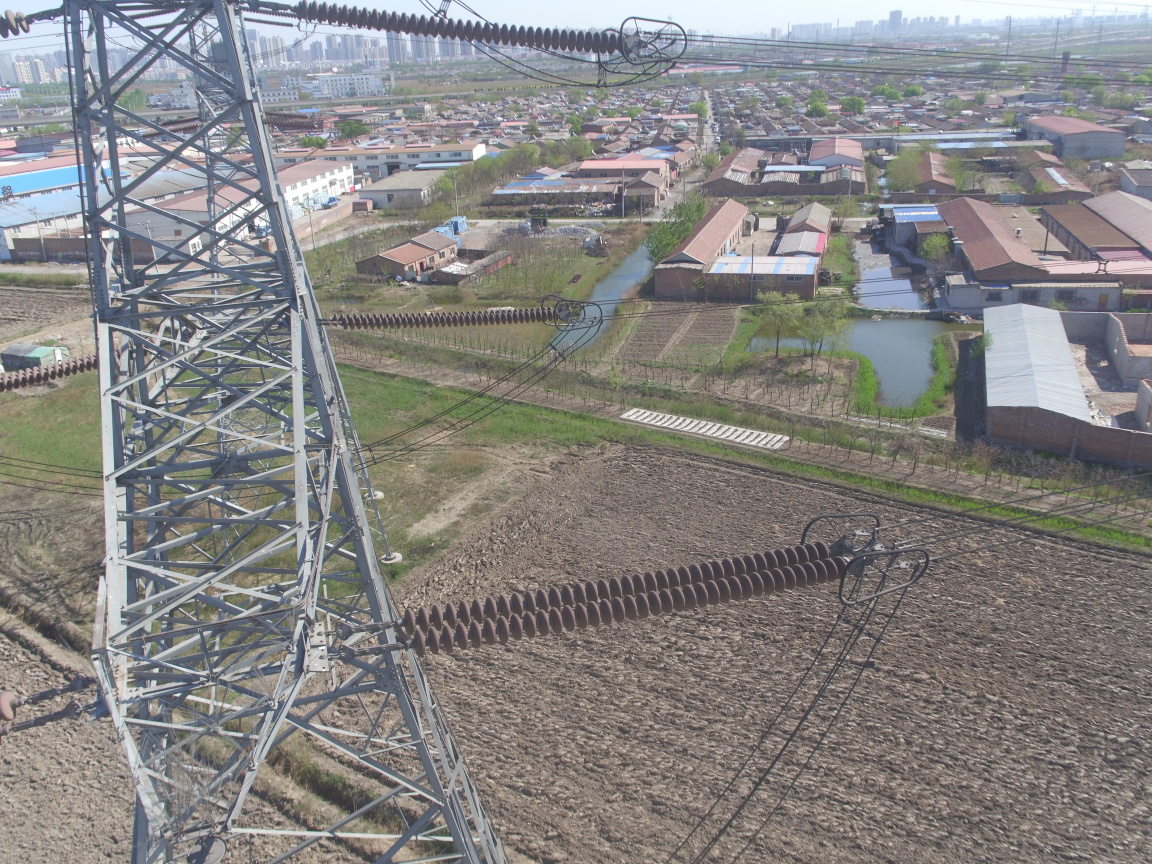insulator: (374, 539, 859, 658), (284, 1, 630, 60), (326, 305, 564, 330)
